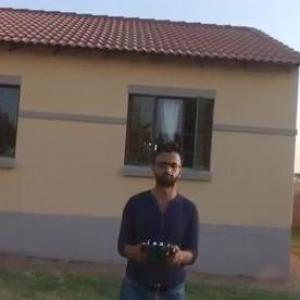follow: (111, 133, 202, 299)
